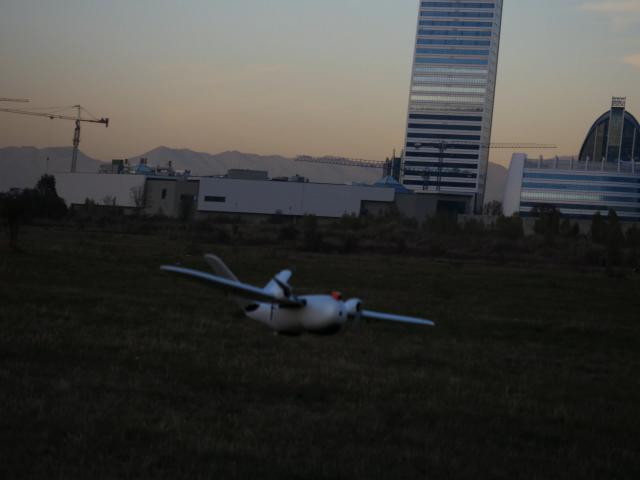plane: (158, 248, 437, 336)
